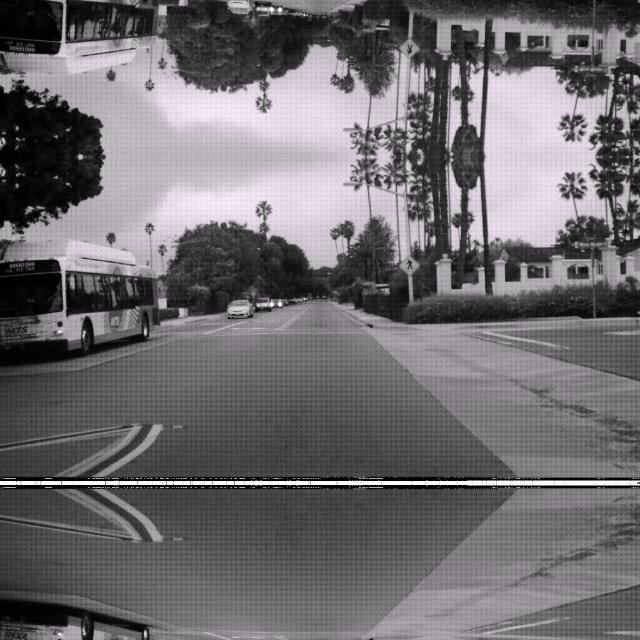pedestrianCrossing: (398, 252, 419, 274), (398, 39, 419, 60)
